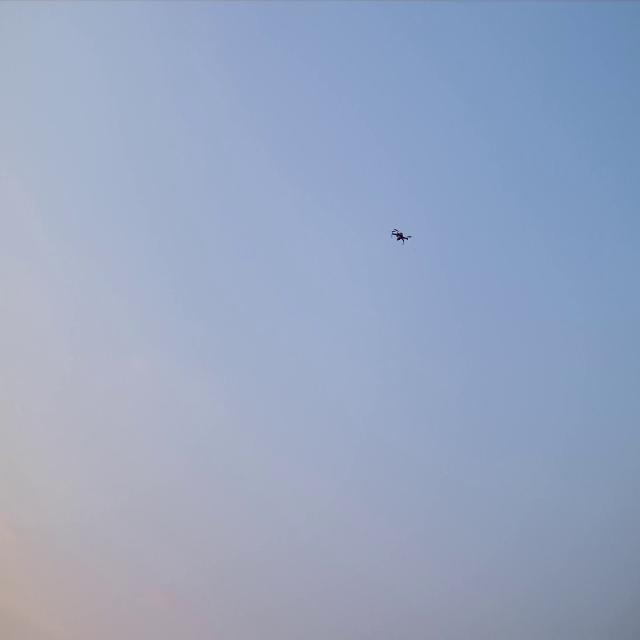UAV: (392, 229, 410, 243)
